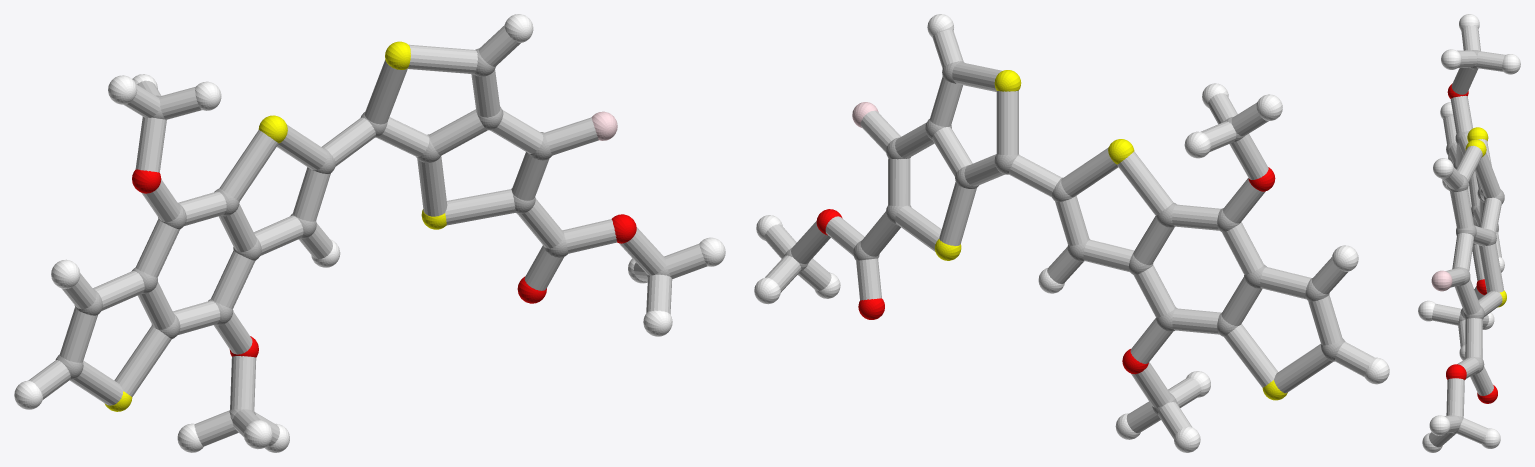
File: Dimethoxy_Benzodithiophene_Phi_30_Theta_180_Methylcarbonyl_3_Fluoro_Thienothiophene.glb
The picture shows the model from 3 angles, left to right: view 1: azimuth 30°, elevation 25°; view 2: azimuth 150°, elevation 25°; view 3: azimuth 270°, elevation 25°; orthographic projection. The views are drawn at different scales.
Parts seen in each view (by area): view 1: grp15205, grp8689, grp1, grp13395, grp7241; view 2: grp15205, grp8689, grp1, grp7241, grp13395; view 3: grp15205, grp8689, grp1, grp13395, grp7241, grp14843.
Boxes of the visible parts, bbox=[...] form: grp15205: bbox=[28, 25, 707, 446]; grp8689: bbox=[14, 14, 725, 452]; grp1: bbox=[55, 48, 670, 421]; grp13395: bbox=[132, 169, 636, 357]; grp7241: bbox=[104, 41, 446, 411]; grp15205: bbox=[764, 29, 1374, 438]; grp8689: bbox=[754, 14, 1389, 452]; grp1: bbox=[784, 61, 1345, 415]; grp7241: bbox=[934, 70, 1287, 400]; grp13395: bbox=[816, 167, 1275, 374]; grp15205: bbox=[1429, 25, 1505, 447]; grp8689: bbox=[1418, 14, 1520, 452]; grp1: bbox=[1446, 50, 1504, 433]; grp13395: bbox=[1446, 83, 1497, 403]; grp7241: bbox=[1465, 127, 1506, 307]; grp14843: bbox=[1431, 270, 1452, 291].
Size of the model in its own units: 16.5 by 9.31 by 2.95.
